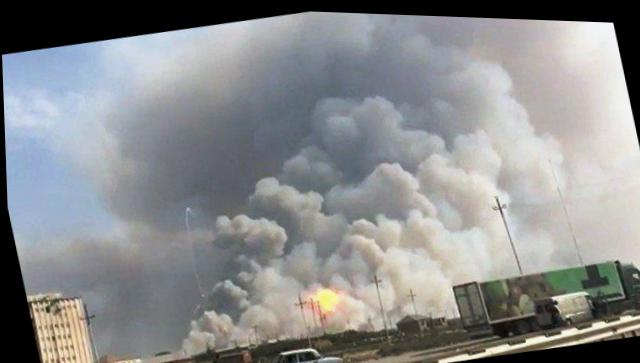fire: (314, 282, 340, 311)
